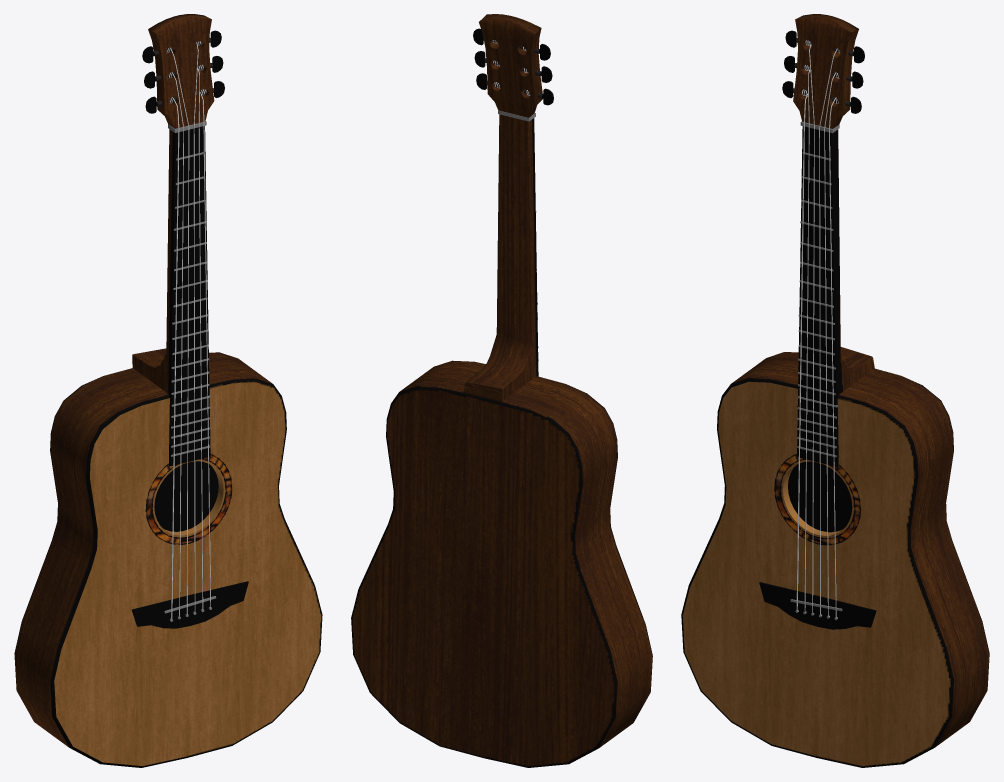
File: Guitar_3_1k.fbx
3 views of the same model, side by side, from view 1: azimuth 30°, elevation 25°; view 2: azimuth 150°, elevation 25°; view 3: azimuth 330°, elevation 25° (orthographic). The views are drawn at different scales.
Parts seen in each view (by area): view 1: Guitar_3_1k; view 2: Guitar_3_1k; view 3: Guitar_3_1k.
Boxes of the visible parts, x1,y1,x2,y2 form: Guitar_3_1k: (14,14,322,767); Guitar_3_1k: (351,14,652,767); Guitar_3_1k: (681,14,989,767).
Bounding box in the file's own units: 38.4 × 99.09 × 9.85.
Materials: 1 (1 with a texture image).
